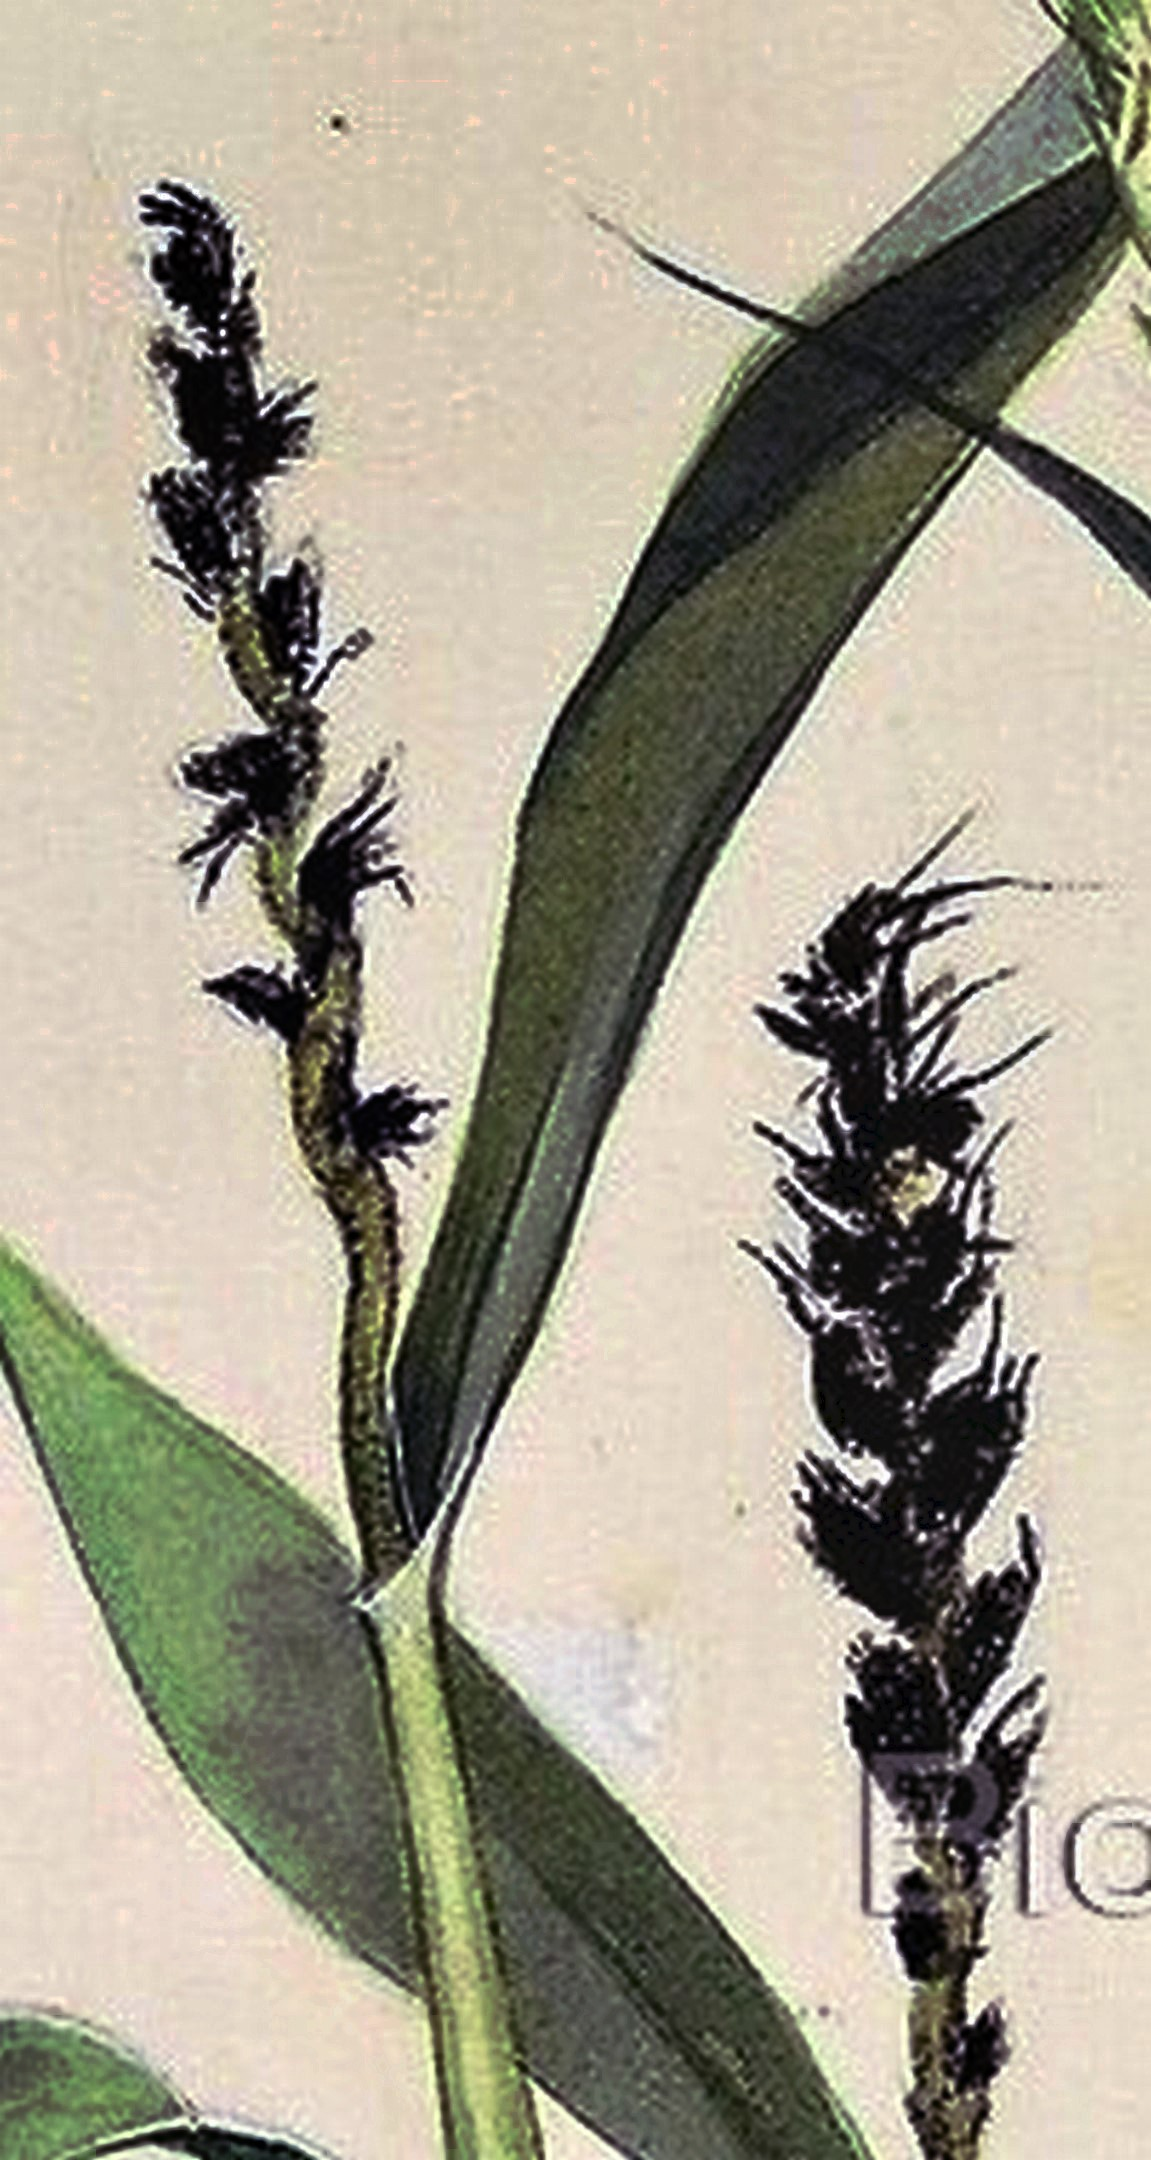Wheat Loose Smut: (109, 156, 490, 1270)
